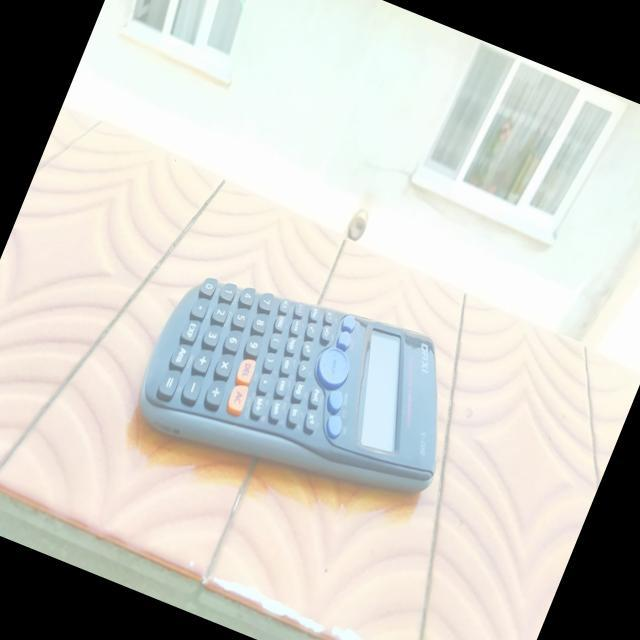Calculator: (127, 240, 484, 534)
